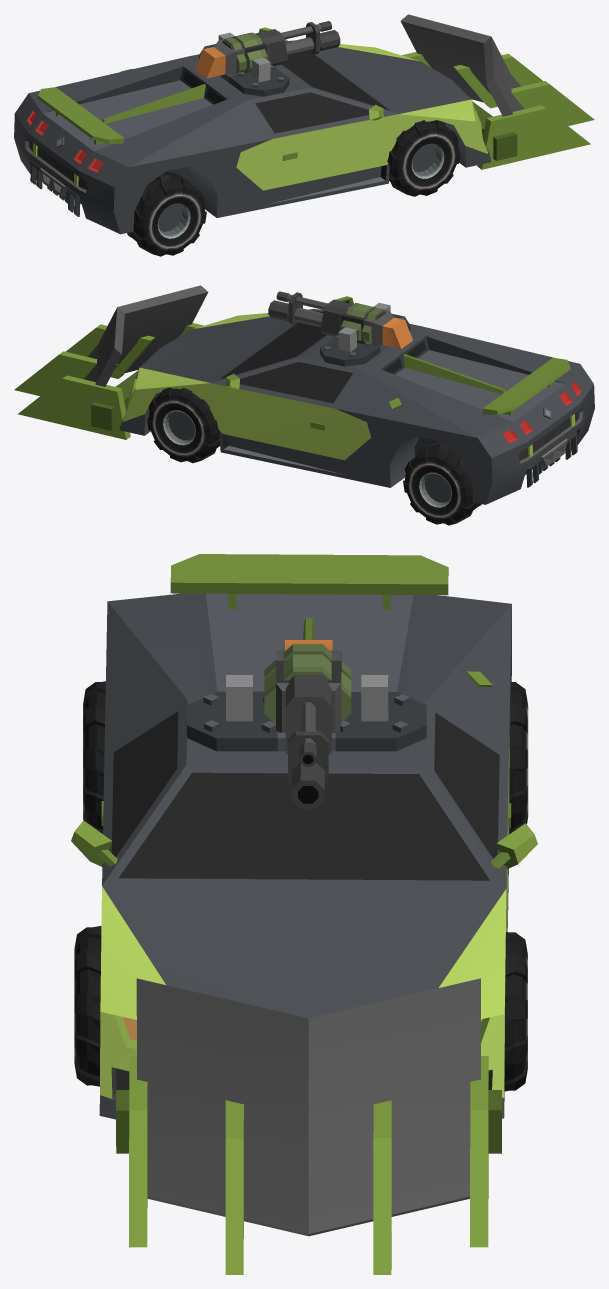
File: car_(1).fbx
The picture shows the model from 3 angles, top to bottom: view 1: azimuth 30°, elevation 25°; view 2: azimuth 150°, elevation 25°; view 3: azimuth 270°, elevation 25°; orthographic projection. The views are drawn at different scales.
Parts seen in each view (by area): view 1: Car.001_Circle.000_Car_0, Car.001_Circle.000_Car_0.001, Wheel_FR_5_Eagle_0.010, gun, Wheel_FR_5_Eagle_0.009; view 2: Car.001_Circle.000_Car_0, Car.001_Circle.000_Car_0.001, Wheel_FR_5_Eagle_0.012, gun, Wheel_FR_5_Eagle_0.011; view 3: Car.001_Circle.000_Car_0, Car.001_Circle.000_Car_0.001, gun, Wheel_FR_5_Eagle_0.009, Wheel_FR_5_Eagle_0.011, Wheel_FR_5_Eagle_0.010, Wheel_FR_5_Eagle_0.012.
Part boxes in pixels (x1,y1,x2,y2): Car.001_Circle.000_Car_0: [14, 27, 490, 234]; Car.001_Circle.000_Car_0.001: [400, 14, 594, 169]; Wheel_FR_5_Eagle_0.010: [127, 171, 206, 256]; gun: [195, 21, 340, 78]; Wheel_FR_5_Eagle_0.009: [387, 120, 460, 196]; Car.001_Circle.000_Car_0: [119, 296, 594, 504]; Car.001_Circle.000_Car_0.001: [14, 285, 208, 439]; Wheel_FR_5_Eagle_0.012: [403, 441, 481, 525]; gun: [268, 291, 412, 348]; Wheel_FR_5_Eagle_0.011: [147, 387, 219, 463]; Car.001_Circle.000_Car_0: [71, 554, 537, 1119]; Car.001_Circle.000_Car_0.001: [116, 978, 501, 1274]; gun: [261, 640, 351, 809]; Wheel_FR_5_Eagle_0.009: [74, 926, 101, 1086]; Wheel_FR_5_Eagle_0.011: [504, 932, 527, 1091]; Wheel_FR_5_Eagle_0.010: [83, 681, 105, 833]; Wheel_FR_5_Eagle_0.012: [509, 682, 528, 833].
Size of the model in its own units: 653 by 179 by 253.
Materials: 5 (5 with a texture image).
